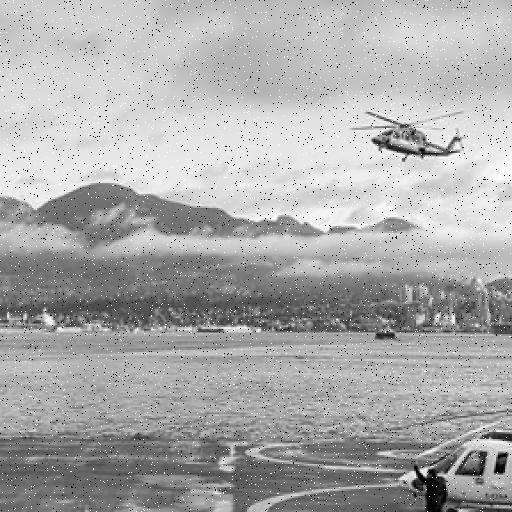helicopter: (343, 81, 485, 186), (403, 381, 512, 512)
